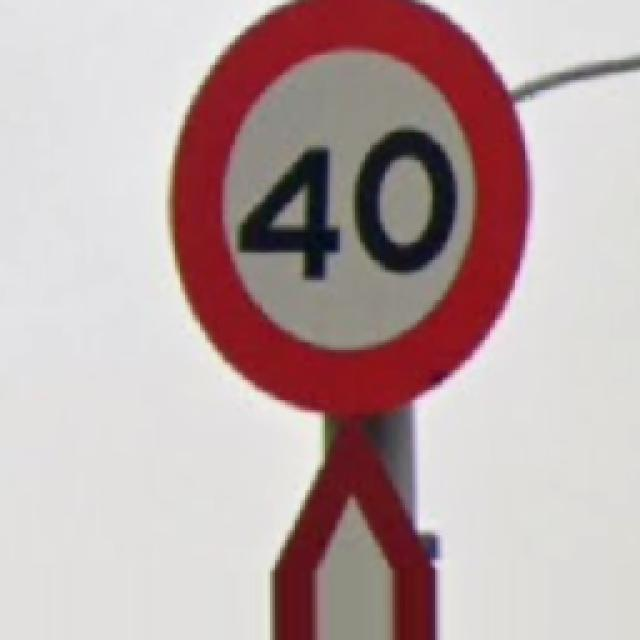Speed Limit -40-: (175, 0, 525, 412)
